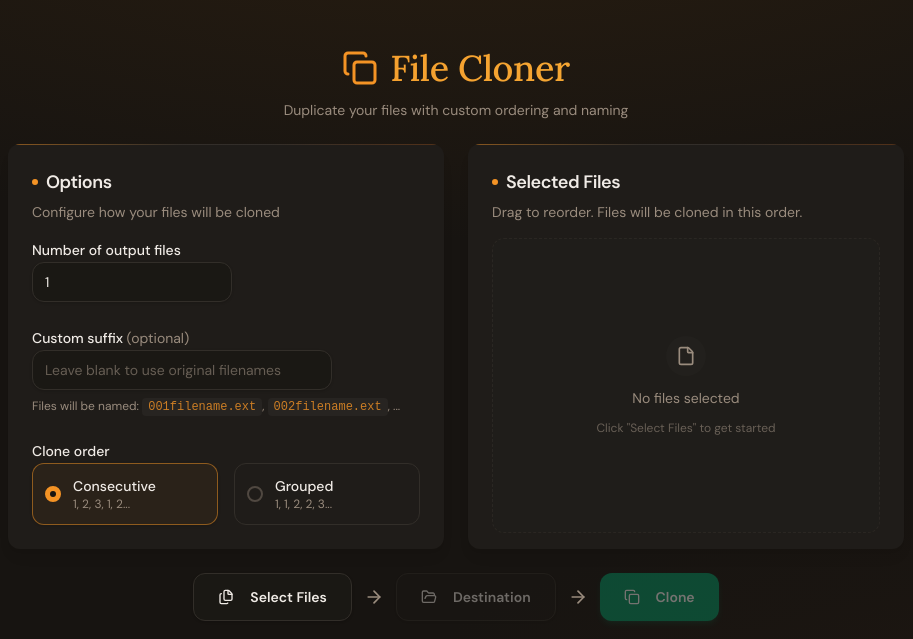
Test case: File Cloner App › Options Configuration › prevents non-numeric input in quantity
Step 1. Replace the text in the field with placeholder "Enter a number (1-10000)" with "abc123xyz" → x=132, y=282, box [32,262,232,302]
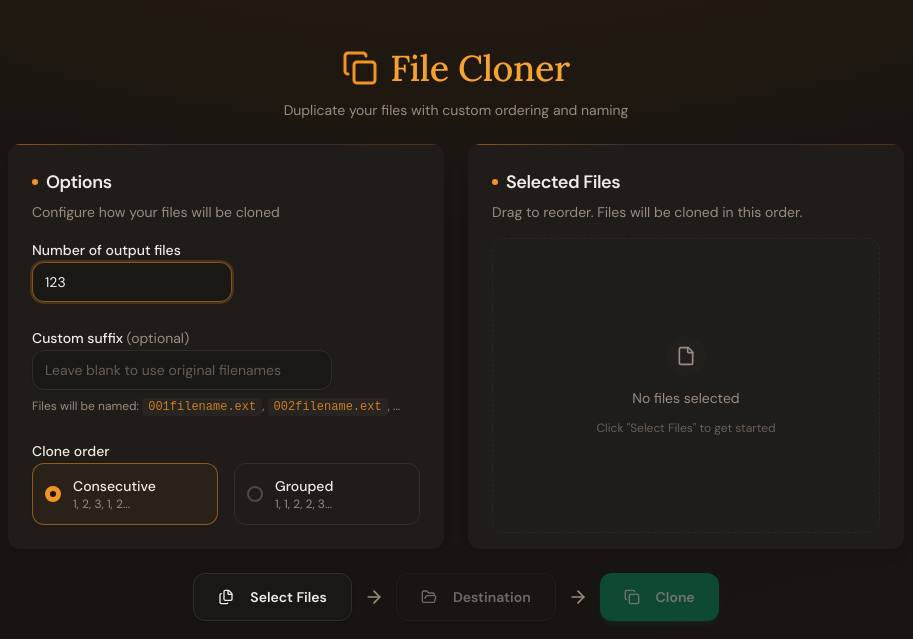
Now the field with placeholder "Enter a number (1-10000)" holds "123", box [32,262,232,302]
